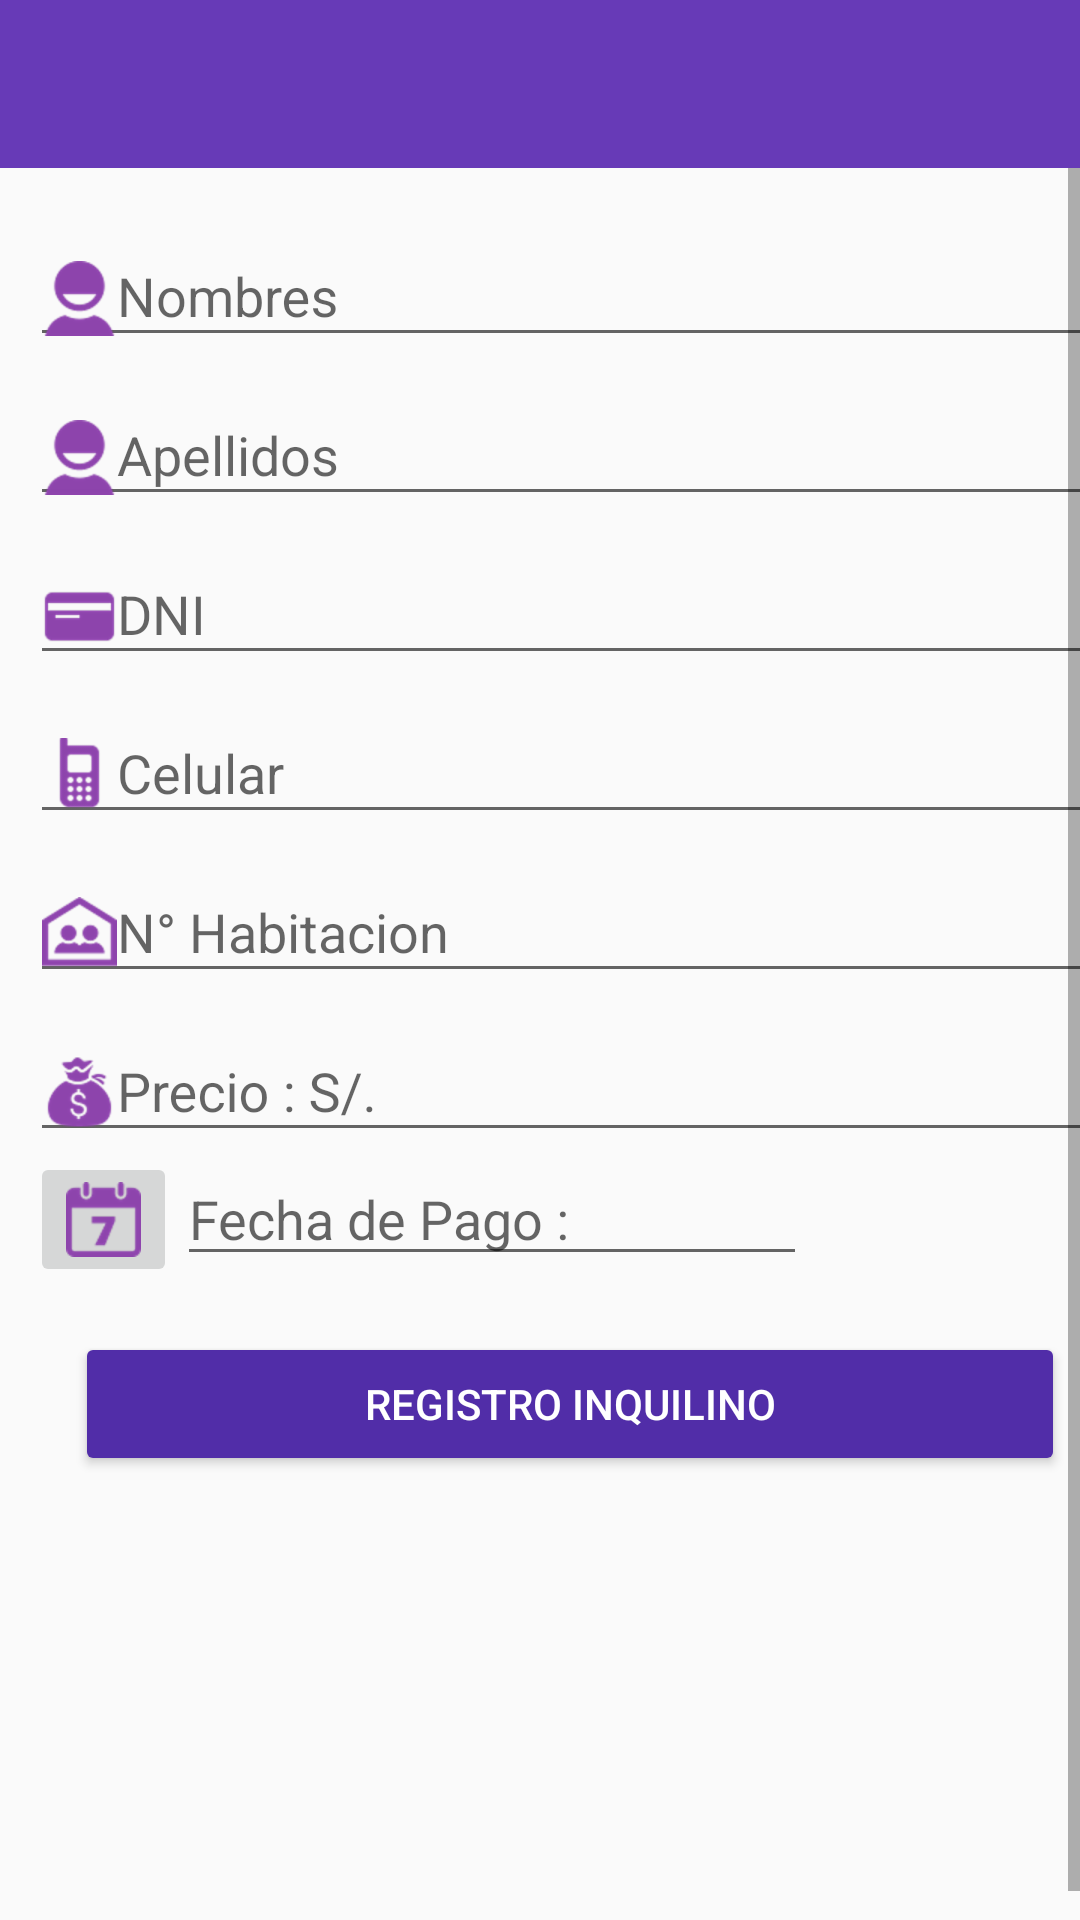

Icons on this 1080 x 1920 Android screen, each with its box as (x1, y1, x2, y2):
ri date: (42, 1170, 165, 1269)
